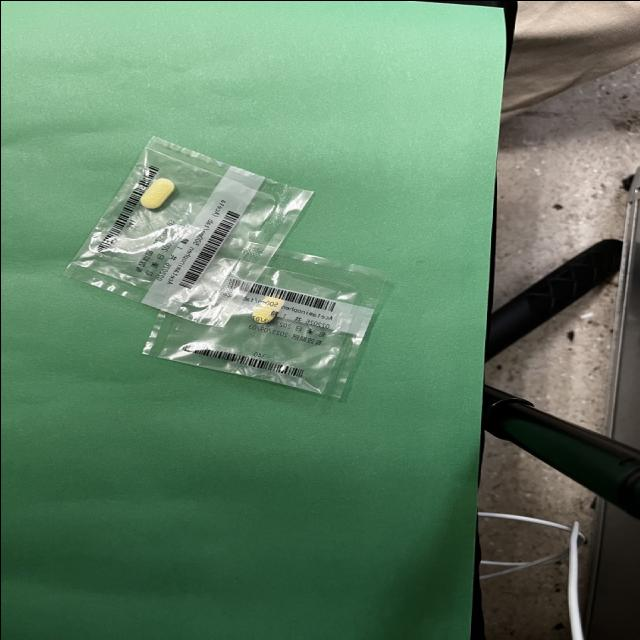Other Objects: (67, 136, 387, 396)
